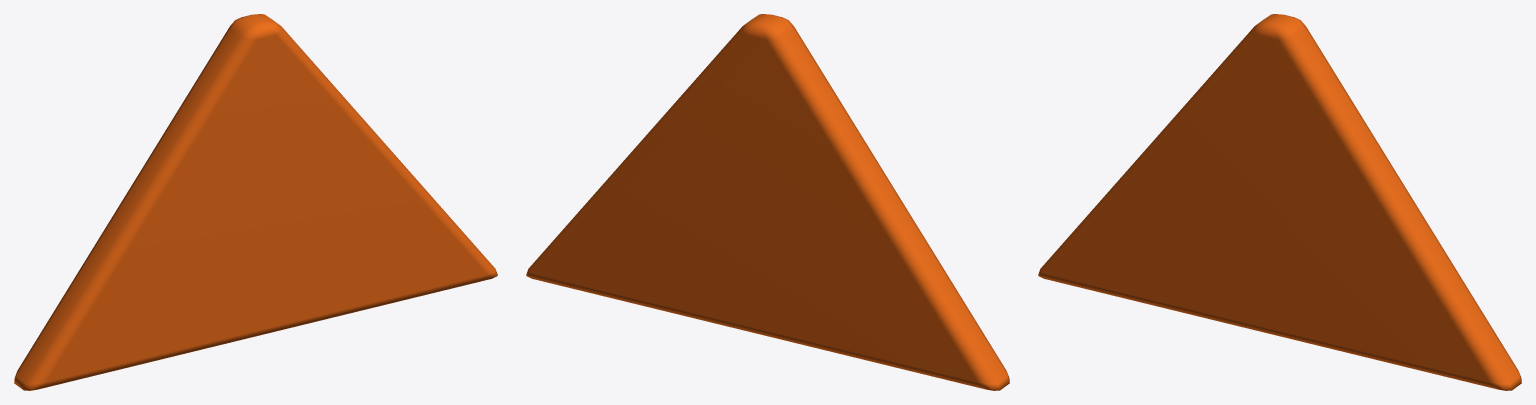
Rendered from FM_BB_Clock_Tower_Decor_001.fbx.
3 renders of one model, left to right at view 1: azimuth 30°, elevation 25°; view 2: azimuth 150°, elevation 25°; view 3: azimuth 330°, elevation 25°, orthographic.
Parts seen in each view (by area): view 1: FM_BB_Clock_Tower_Decor_001; view 2: FM_BB_Clock_Tower_Decor_001; view 3: FM_BB_Clock_Tower_Decor_001.
Part boxes in pixels (bbox=[...]): FM_BB_Clock_Tower_Decor_001: bbox=[14, 14, 497, 390]; FM_BB_Clock_Tower_Decor_001: bbox=[526, 14, 1009, 390]; FM_BB_Clock_Tower_Decor_001: bbox=[1038, 14, 1521, 390].
Size of the model in its own units: 1.66 by 1.05 by 0.1318.
